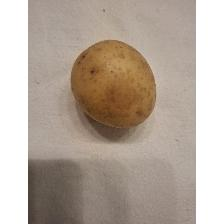Kartoffel: (69, 38, 161, 130)
